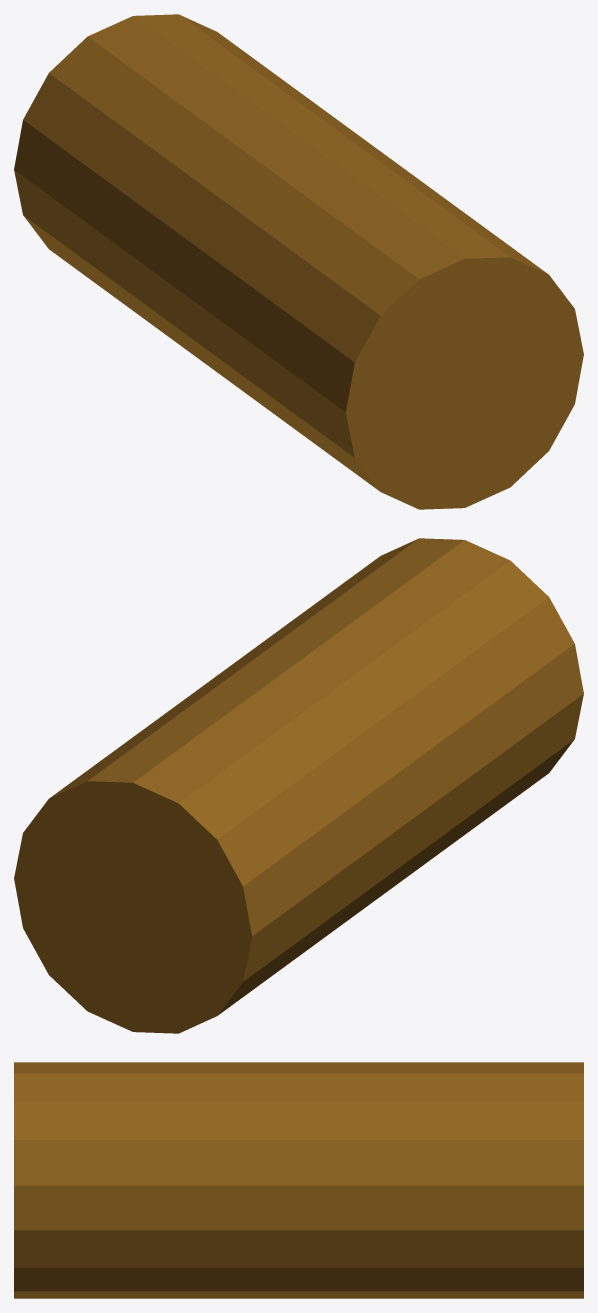
File: Kolek.fbx
3 views of the same model, one above another, from view 1: azimuth 30°, elevation 25°; view 2: azimuth 150°, elevation 25°; view 3: azimuth 270°, elevation 25° (orthographic). The views are drawn at different scales.
Visible parts, largest first — view 1: Cylinder.018; view 2: Cylinder.018; view 3: Cylinder.018.
Part boxes in pixels (bbox=[...]): Cylinder.018: bbox=[14, 14, 583, 509]; Cylinder.018: bbox=[14, 538, 583, 1033]; Cylinder.018: bbox=[14, 1062, 583, 1298].
Bounding box in the file's own units: 12.95 × 12.95 × 31.25.
